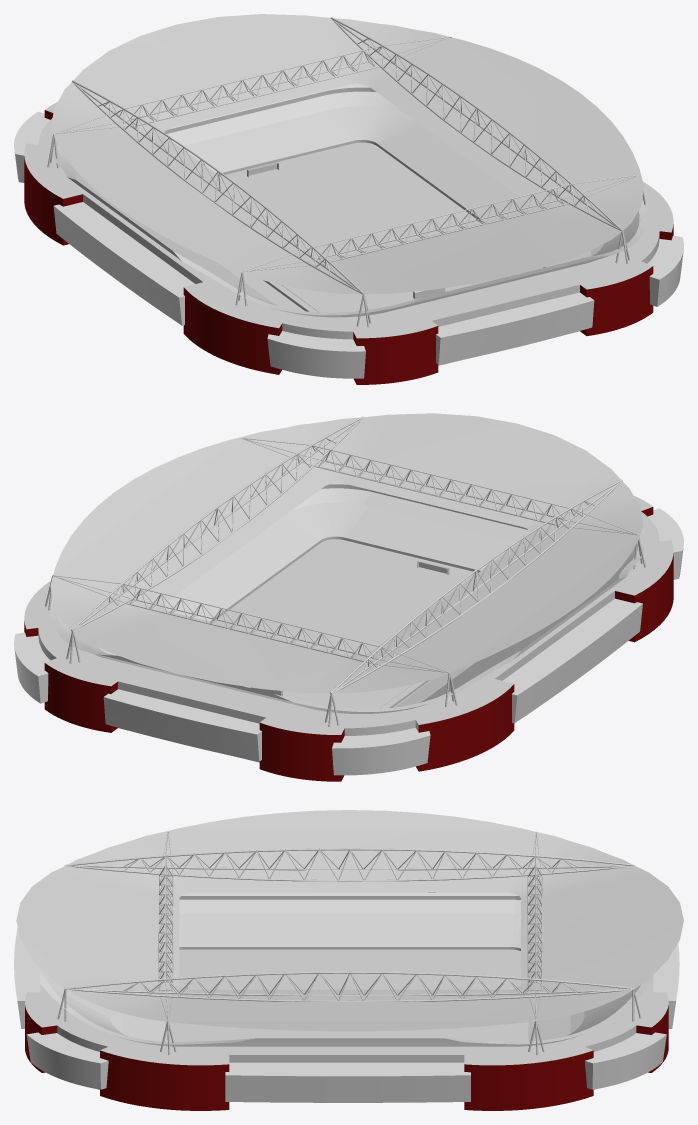
Rendered from Stadium_new.fbx.
The picture shows the model from 3 angles, top to bottom: view 1: azimuth 30°, elevation 25°; view 2: azimuth 150°, elevation 25°; view 3: azimuth 270°, elevation 25°; orthographic projection. The views are drawn at different scales.
Parts seen in each view (by area): view 1: Stadio; view 2: Stadio; view 3: Stadio.
Part boxes in pixels (x1,y1,x2,y2): Stadio: (14, 14, 683, 384); Stadio: (14, 413, 683, 781); Stadio: (14, 810, 683, 1110).
Size of the model in its own units: 16998 by 3285 by 21514.
